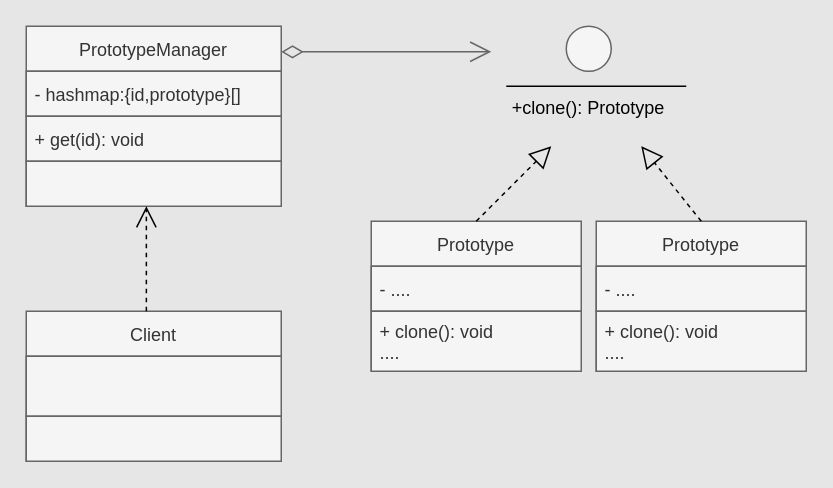
Image size: 833x488. Some labels were removed from this diagram. Here are the shapes that lost their labels. From the top down, the centre of each, then its label:
the point at 153,183: - set(id,prototype): void
the point at 153,385: #manager: PrototypeManager #prototype: Prototype
the point at 153,438: + getPrototype(id)
